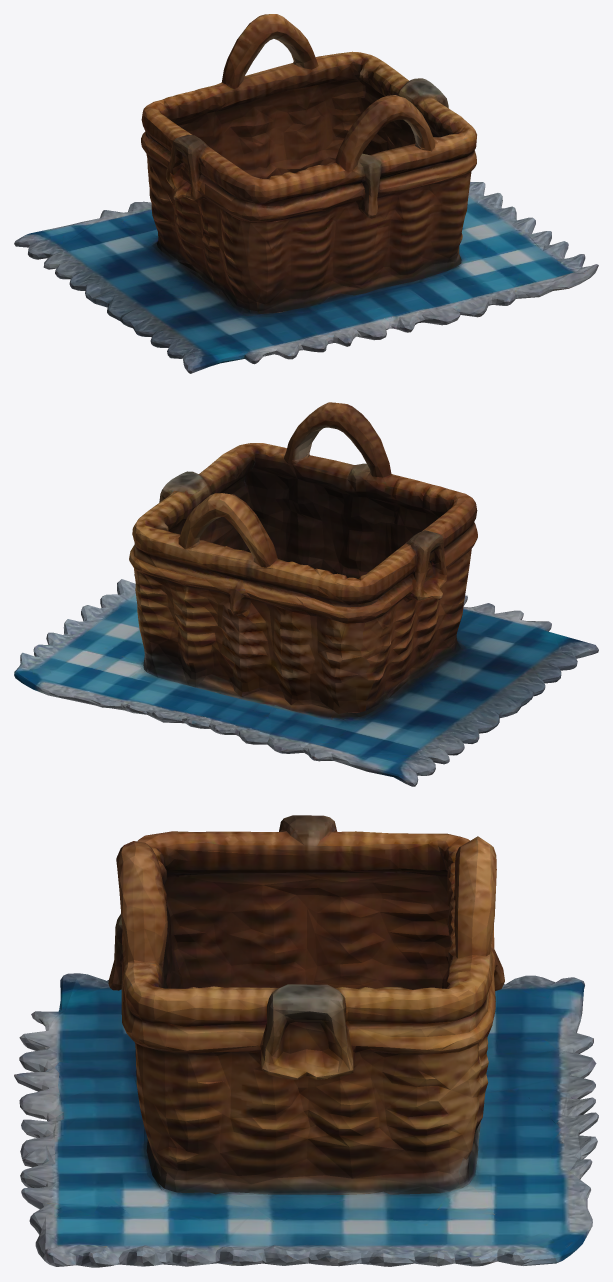
Rendered from beach-picnic-basket.glb.
3 views of the same model, one above another, from view 1: azimuth 30°, elevation 25°; view 2: azimuth 150°, elevation 25°; view 3: azimuth 270°, elevation 25° (orthographic). The views are drawn at different scales.
Visible parts, largest first — view 1: world; view 2: world; view 3: world.
Boxes of the visible parts, x1,y1,x2,y2 form: world: [14, 14, 598, 373]; world: [14, 402, 598, 786]; world: [14, 815, 598, 1267].
Size of the model in its own units: 0.9978 by 0.4809 by 0.8421.
1 material, 1 textured.
